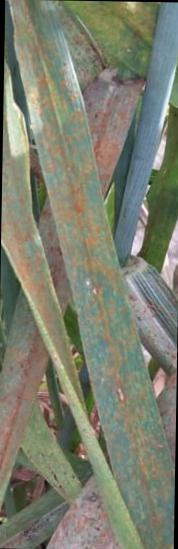Corn: (23, 38, 125, 312), (86, 324, 177, 549), (82, 70, 142, 189)
